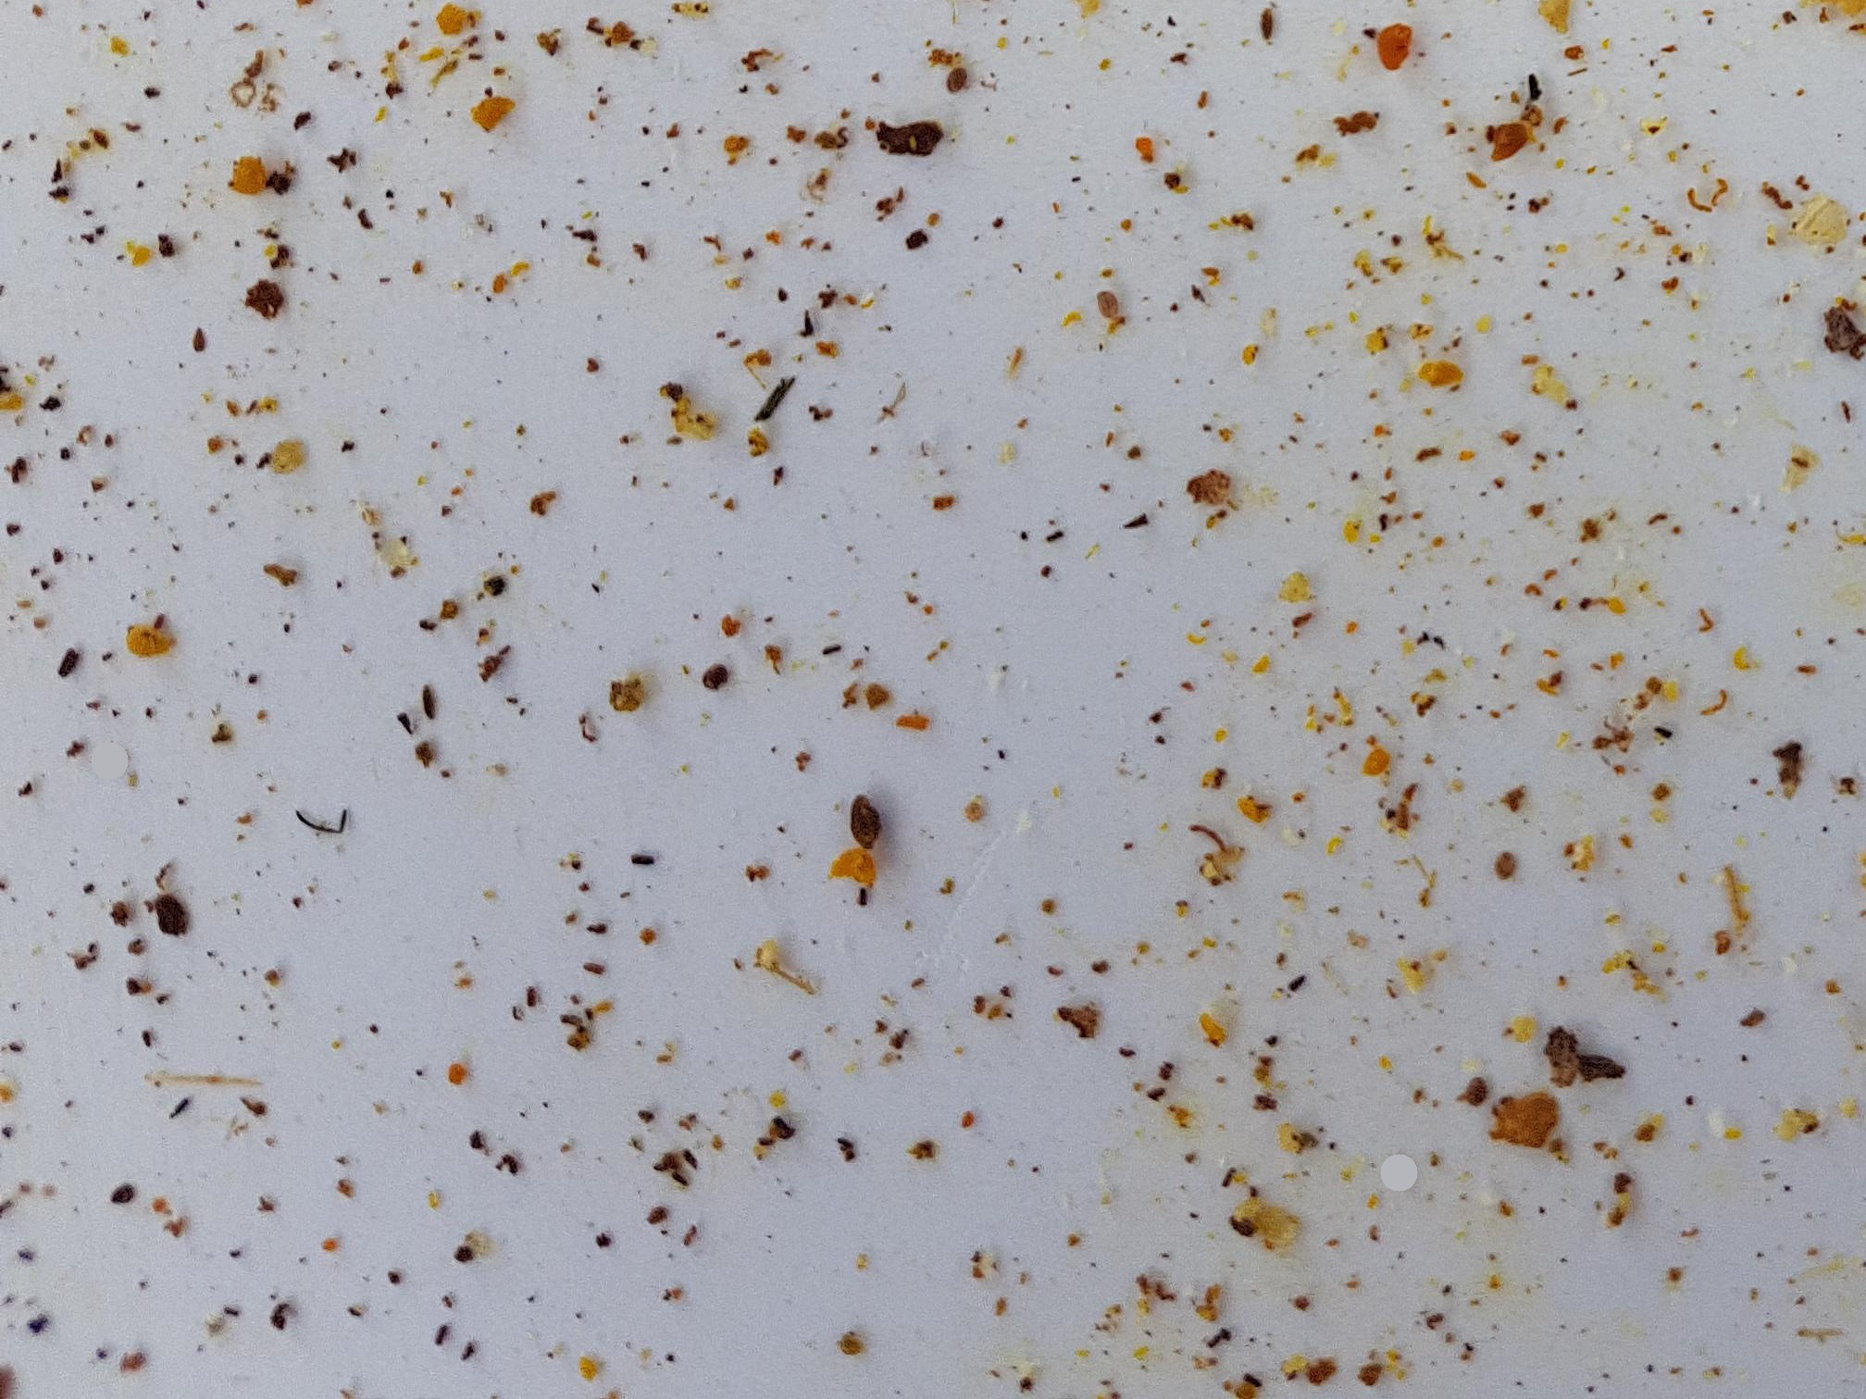Varroa: (1455, 1073, 1487, 1110), (699, 660, 727, 695), (943, 62, 973, 91)
